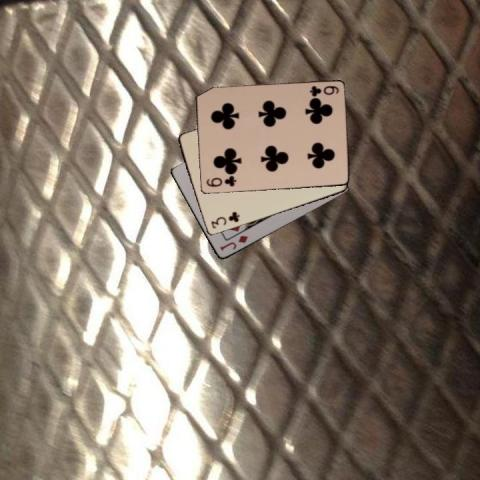3c: (208, 209, 241, 230)
6c: (204, 174, 237, 189), (307, 83, 340, 98)
Jd: (217, 233, 249, 253)
